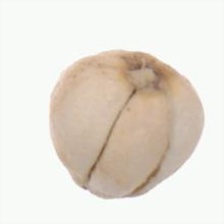L4: (49, 49, 205, 200)
